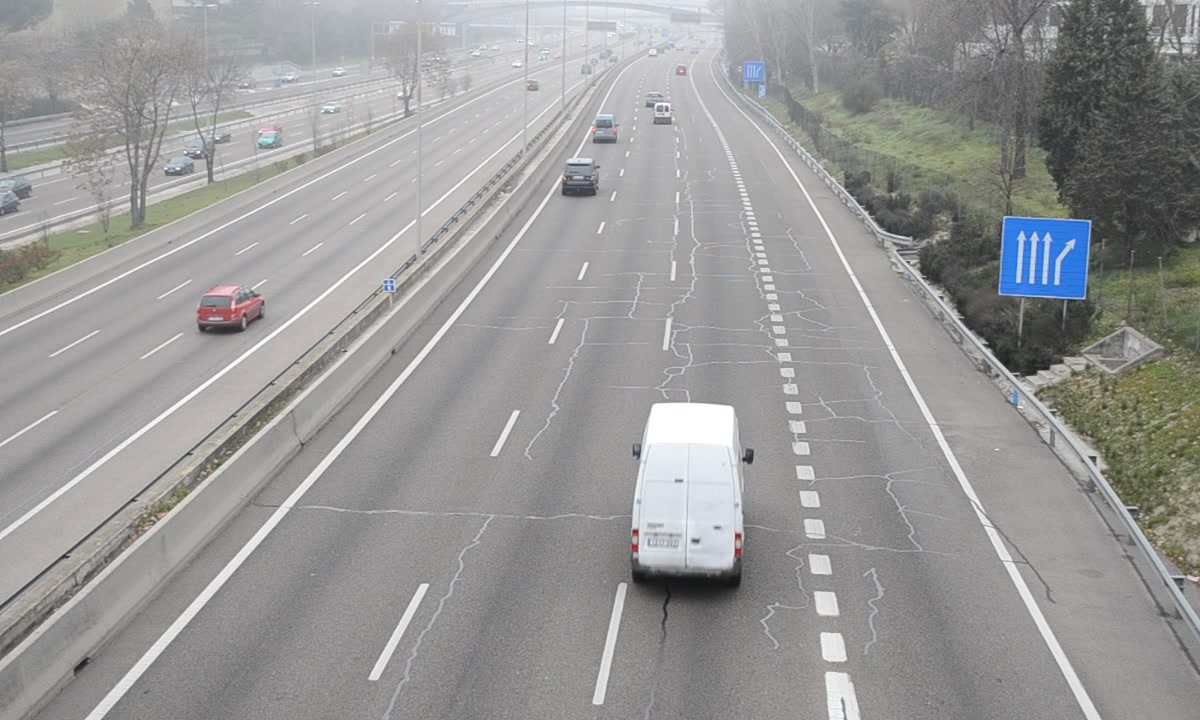car: (562, 158, 598, 193)
van: (630, 404, 745, 583), (593, 114, 616, 145)
